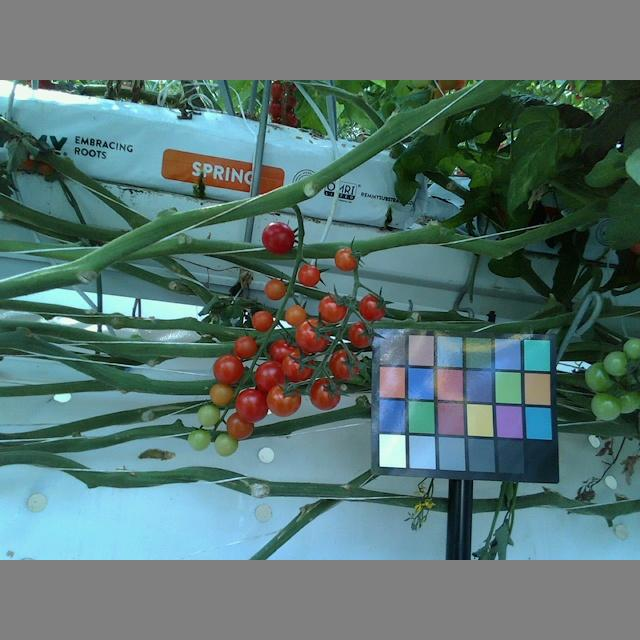green: (584, 361, 617, 394), (591, 390, 620, 422), (601, 350, 631, 379), (214, 431, 239, 456), (185, 427, 212, 450), (197, 403, 221, 425)
pink: (207, 381, 232, 406)
red: (261, 219, 297, 255), (235, 386, 270, 423), (253, 359, 287, 394), (296, 319, 329, 354), (328, 347, 361, 380), (266, 385, 301, 416), (211, 352, 242, 384), (311, 378, 342, 410), (283, 353, 315, 381), (318, 296, 351, 323), (225, 411, 256, 439), (359, 295, 387, 323), (347, 321, 373, 347), (334, 247, 359, 273), (297, 264, 321, 288), (263, 278, 285, 302), (252, 308, 273, 333), (285, 303, 307, 326), (232, 337, 259, 354)
